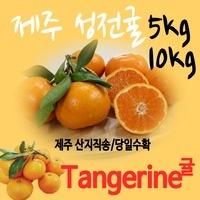mandarin: (113, 83, 168, 135), (55, 81, 110, 130), (20, 77, 57, 124), (106, 68, 149, 108), (105, 52, 149, 79), (69, 50, 104, 79), (7, 177, 33, 200), (1, 154, 25, 177), (23, 159, 46, 180), (39, 173, 61, 194), (47, 159, 65, 175), (33, 148, 49, 165), (16, 144, 31, 154)
